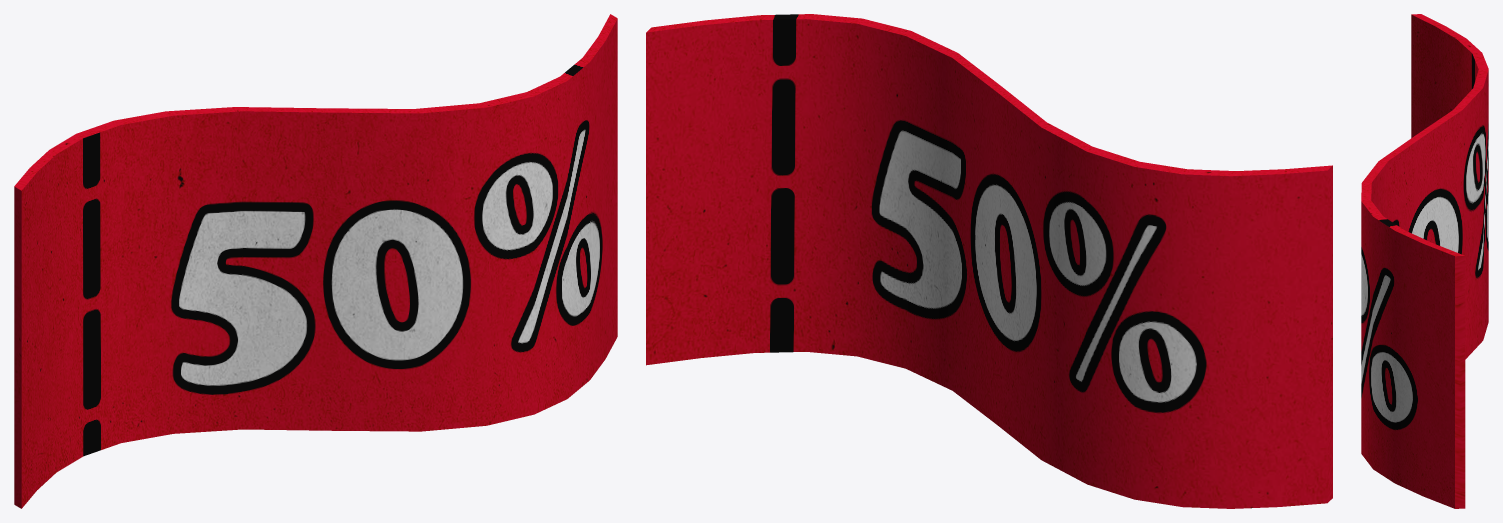
File: Discount.fbx
3 renders of one model, left to right at view 1: azimuth 30°, elevation 25°; view 2: azimuth 150°, elevation 25°; view 3: azimuth 270°, elevation 25°, orthographic. The views are drawn at different scales.
Parts seen in each view (by area): view 1: Object005; view 2: Object005; view 3: Object005.
Part boxes in pixels (left/top/right/bottom): Object005: left=14, top=14, right=617, bottom=508; Object005: left=646, top=14, right=1332, bottom=508; Object005: left=1361, top=14, right=1488, bottom=508.
Bounding box in the file's own units: 7.42 × 3.61 × 1.65.
1 material, 1 textured.
